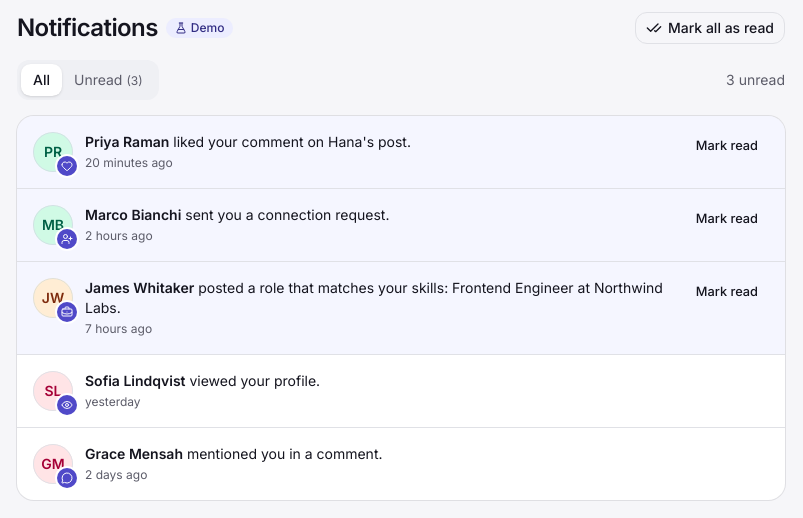
Test: NotificationsView › filters unread notifications and marks them as read
The width and height of the screenshot is (803, 518).
Expected: the message reads "3 unread", [726,71,785,88]
Click the button "Unread(3)".
click(108, 80)  # box [62,64,155,96]
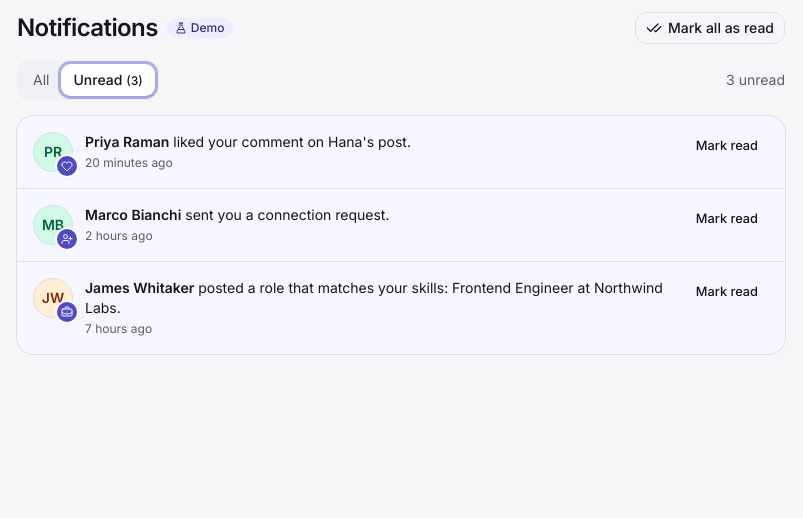
Result: the number of list items is 3 at [17,116,785,189]; [17,189,785,262]; [17,262,785,354]
Click the button with aria-label "Mark notification from Priya Raman as read".
click(727, 146)  # box [685,132,769,160]
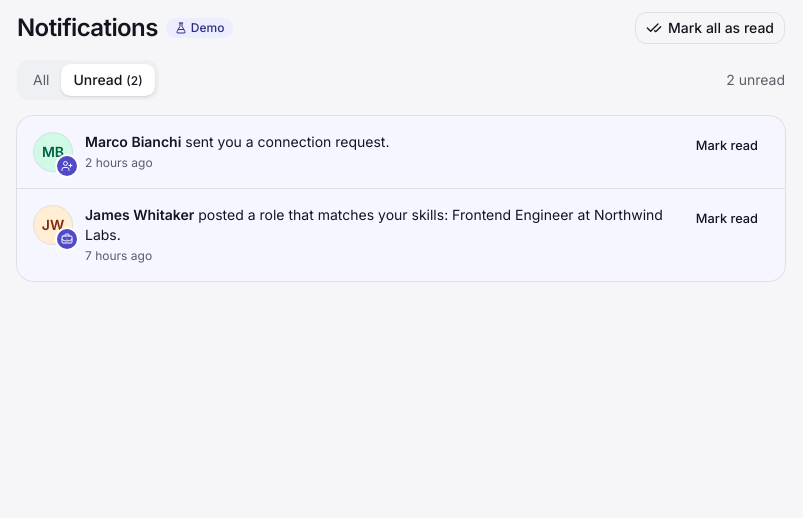
Result: the message reads "2 unread" at [726,71,785,88]
Click the button "Mark all as read".
click(710, 28)  # box [635,12,785,44]
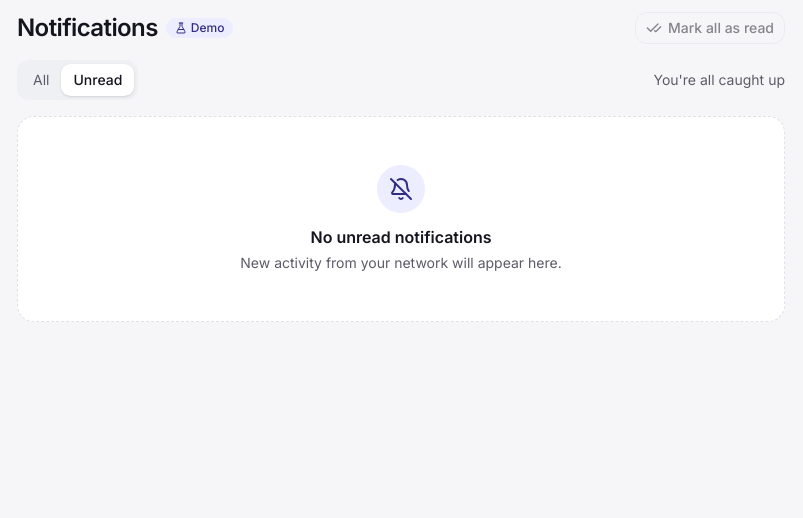
Result: the message reads "You're all caught up" at [654,71,785,88]
Result: the heading "No unread notifications" is shown at [310,227,492,247]
